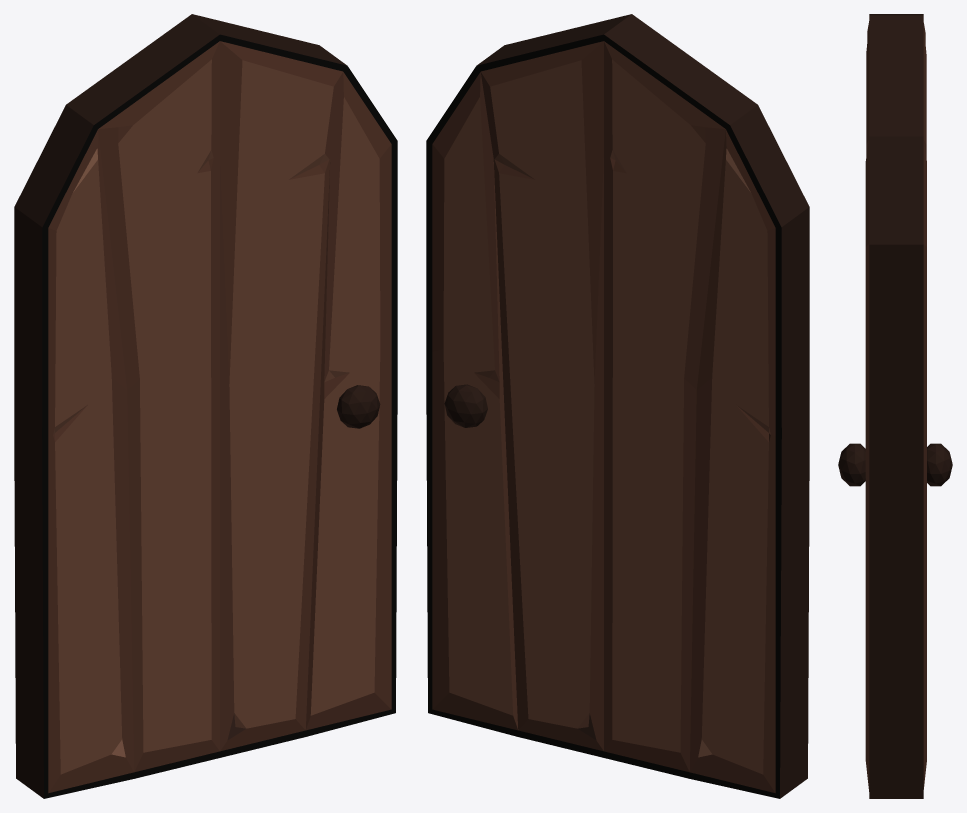
Rendered from Door_Fantasy.glb.
3 renders of one model, left to right at view 1: azimuth 30°, elevation 25°; view 2: azimuth 150°, elevation 25°; view 3: azimuth 270°, elevation 25°, orthographic. The views are drawn at different scales.
Visible parts, largest first — view 1: Door_Wood_01; view 2: Door_Wood_01; view 3: Door_Wood_01.
Boxes of the visible parts, x1,y1,x2,y2 form: Door_Wood_01: (14, 14, 397, 798); Door_Wood_01: (426, 14, 809, 798); Door_Wood_01: (838, 14, 952, 798).
Size of what is drawn, in the model's own units: 1.68 by 3.27 by 0.4846.
1 material, 1 textured.
